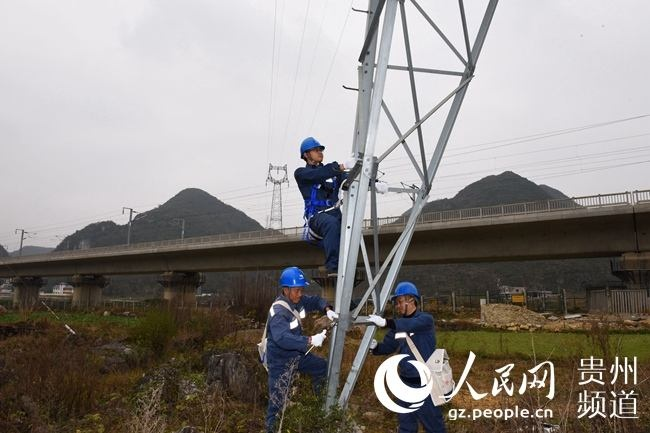blue: (277, 263, 307, 304), (390, 279, 419, 317), (298, 134, 325, 166)
